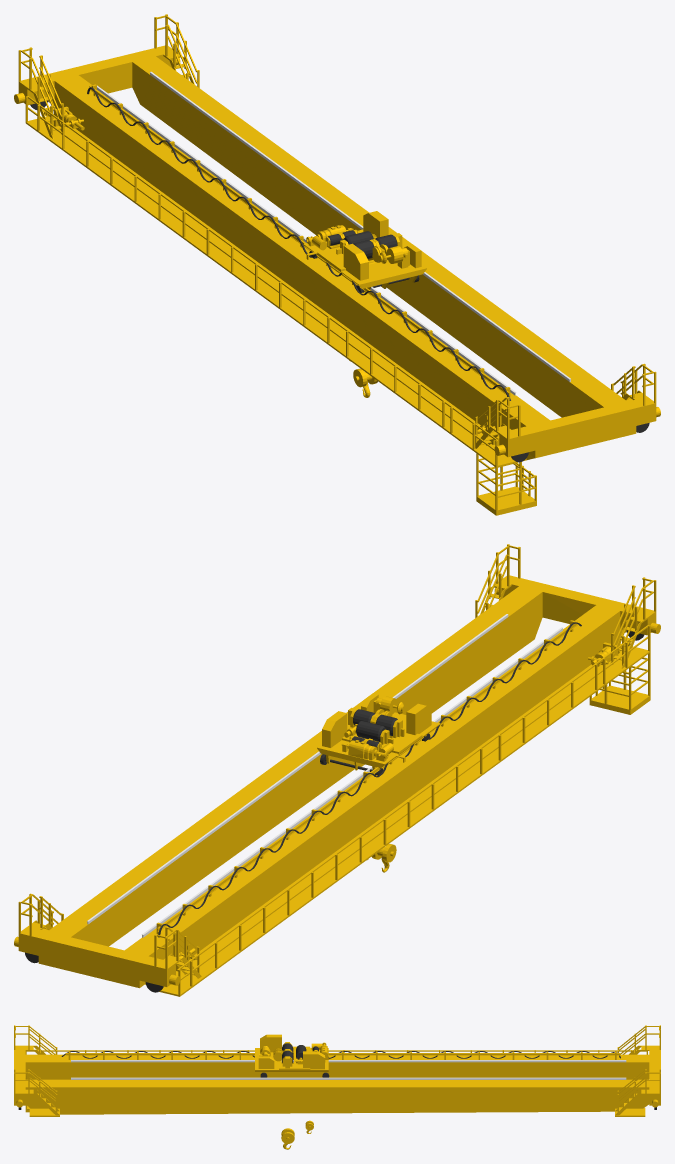
3 renders of one model, top to bottom at view 1: azimuth 30°, elevation 25°; view 2: azimuth 150°, elevation 25°; view 3: azimuth 270°, elevation 25°, orthographic. The views are drawn at different scales.
Parts seen in each view (by area): view 1: 1_Bay_C_866_Body; view 2: 1_Bay_C_866_Body; view 3: 1_Bay_C_866_Body.
Boxes of the visible parts, x1,y1,x2,y2 form: 1_Bay_C_866_Body: (14, 14, 660, 515); 1_Bay_C_866_Body: (14, 544, 660, 996); 1_Bay_C_866_Body: (14, 1025, 660, 1149).
Bounding box in the file's own units: 7.46 × 7.11 × 39.13.
